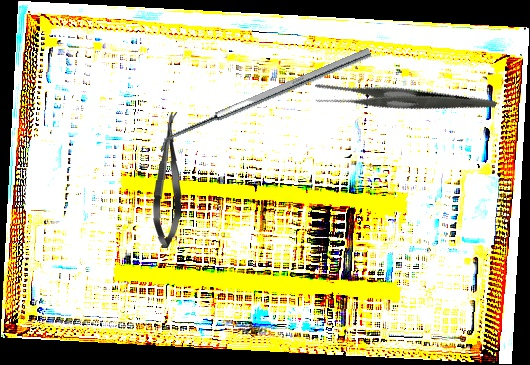Dressing Forceps: (309, 36, 498, 165)
Micro Scissor: (150, 110, 187, 250)
Spatula Surgical: (155, 47, 376, 156)
